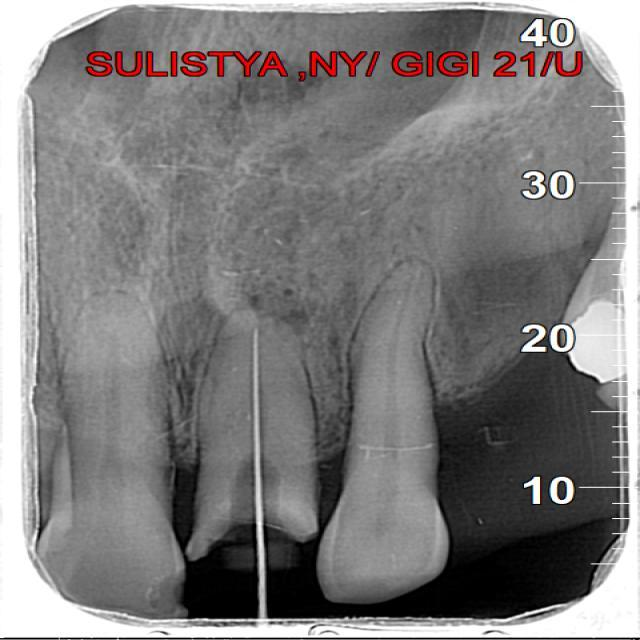individual-tooth-8tto: (28, 286, 180, 615), (317, 262, 449, 602), (181, 310, 325, 566)
